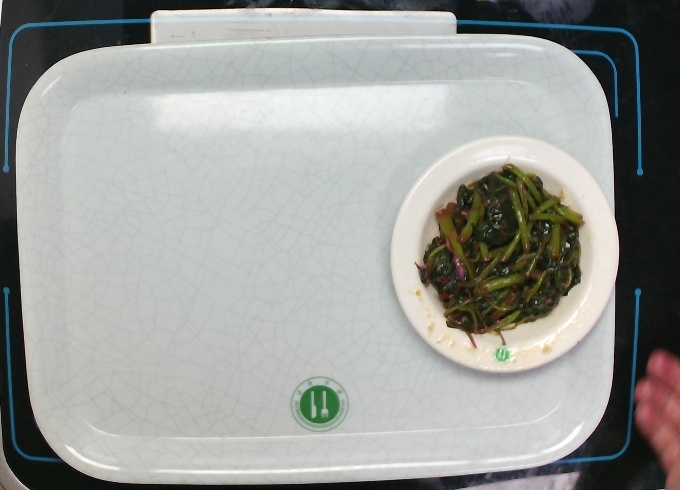WCQzf-Kuan_Bian_Yuan_Die: (383, 127, 622, 380)
